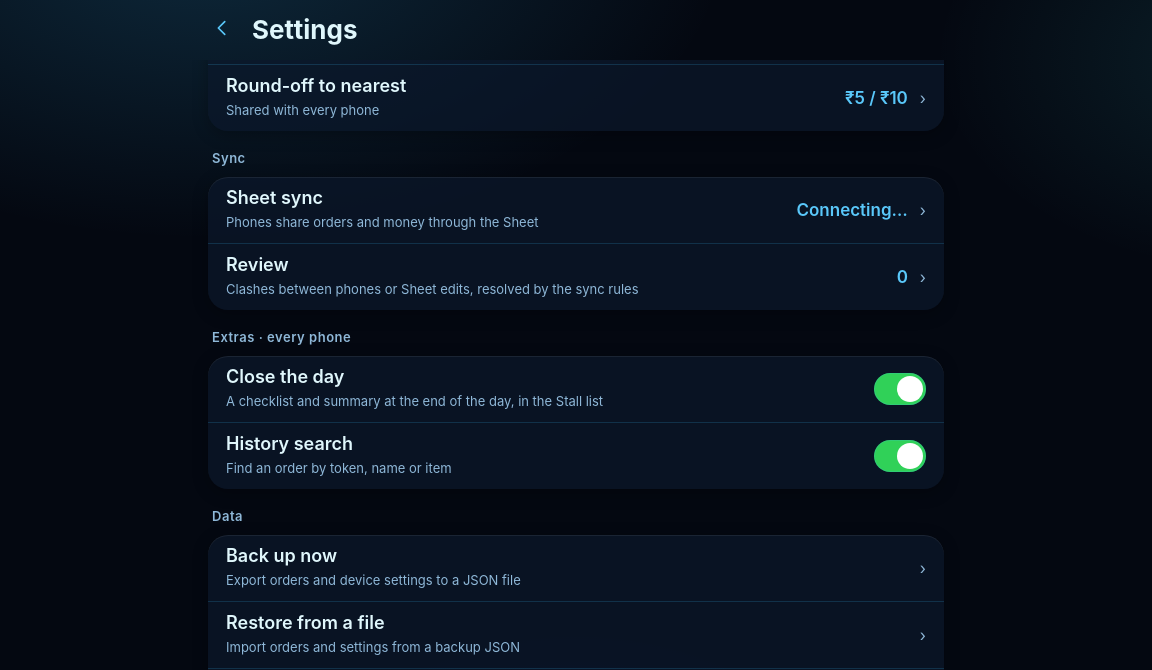
Test: Settings Extras, Money tile, Stock rail (F-65, F-68) › Extras switches start on and write an explicit off
(page scrolled)
Click the switch labelled "Close the day" at (285, 376), box left=208, top=356, right=944, bottom=423
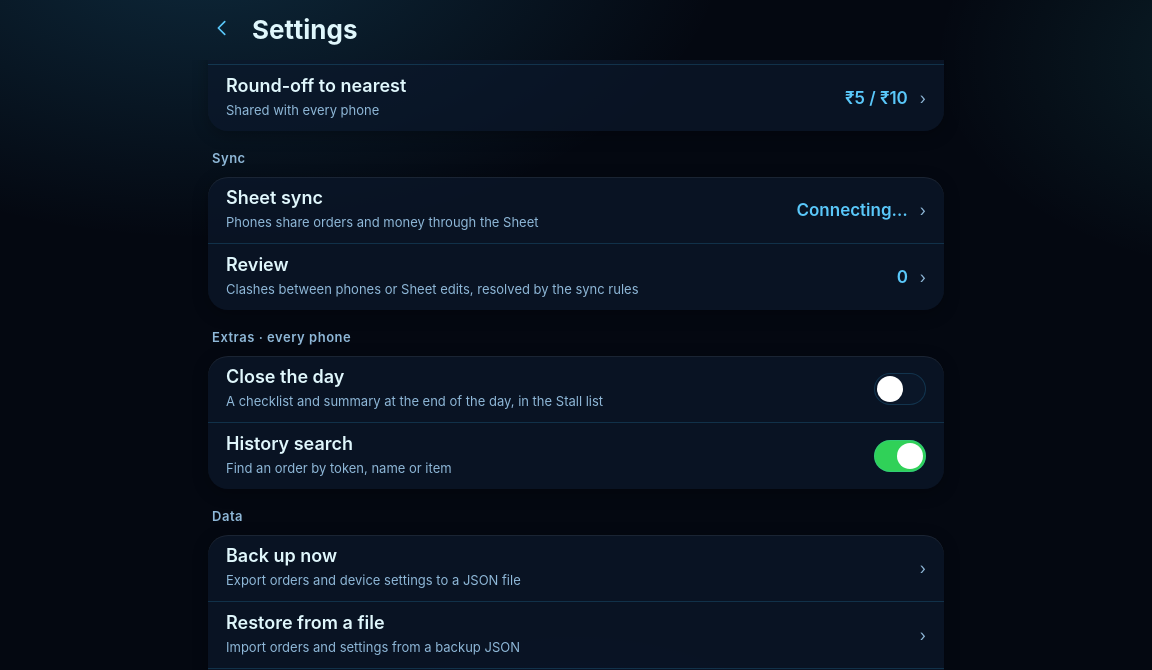
Check: the switch labelled "Close the day" is not checked, box left=208, top=356, right=944, bottom=423
